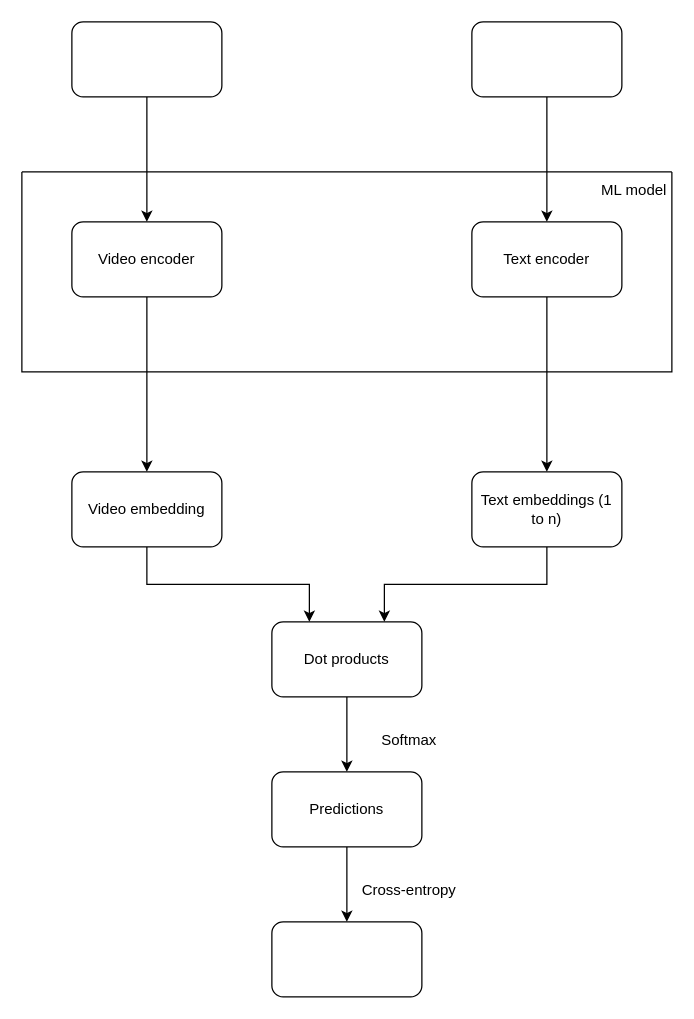
The diagram is 694 pixels wide and 1019 high, and some of its shapes have lost their labels. Each missing label, with the box of its shape:
Ground truth: (271, 921, 422, 997)
Text queries (1 positive and n-1 negative): (471, 21, 622, 97)
Video: (71, 21, 222, 97)
